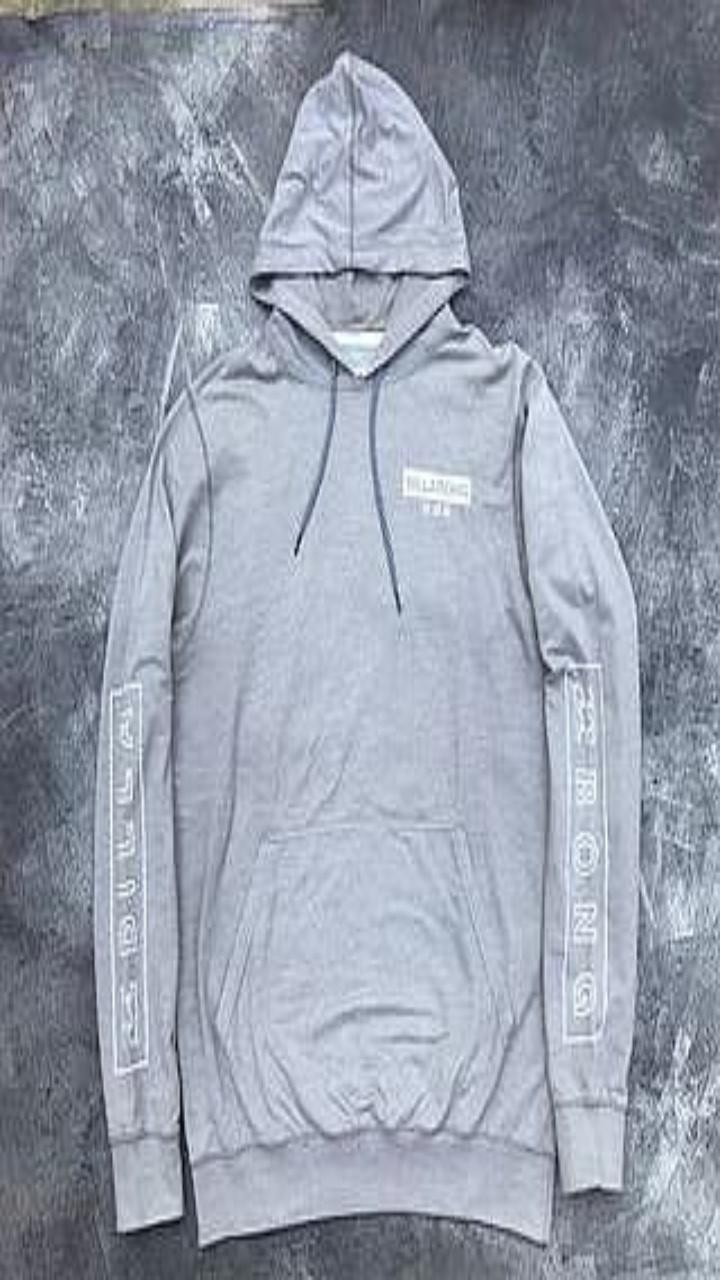Hoodie: (94, 50, 640, 1245)
